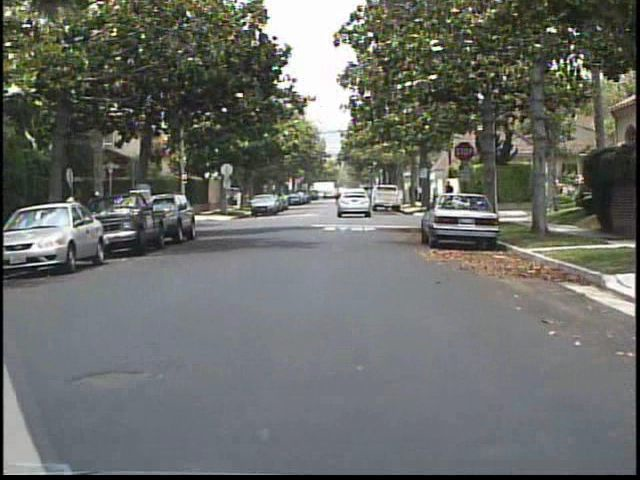person: (63, 186, 86, 249), (440, 177, 457, 213), (416, 183, 423, 203)
